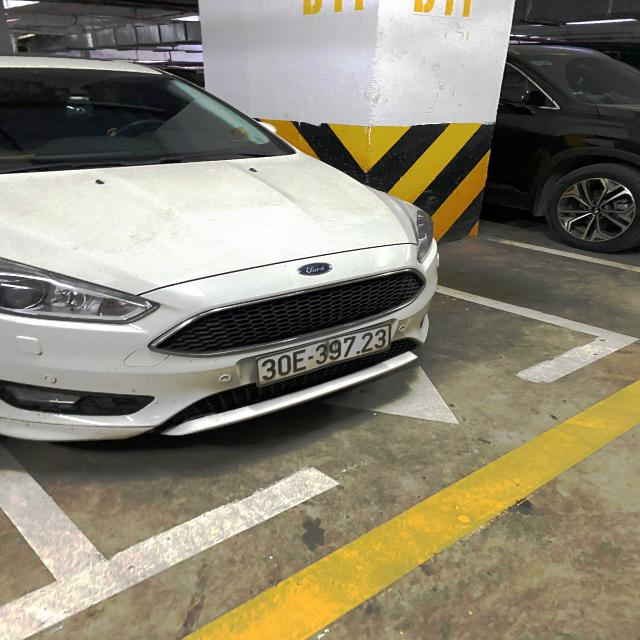license_plate: (254, 322, 394, 390)
